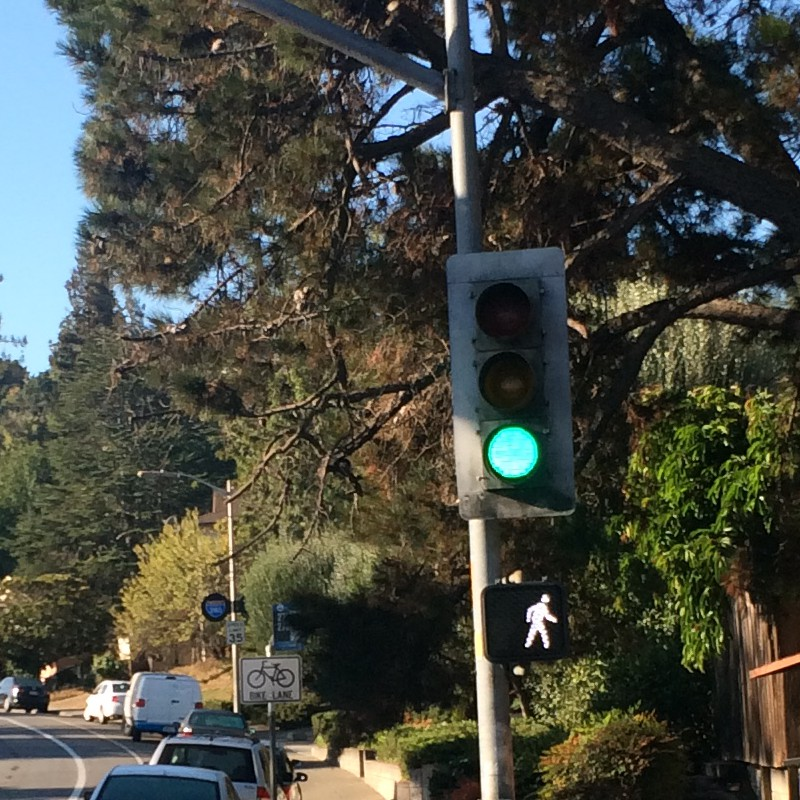go: (473, 576, 581, 668)
